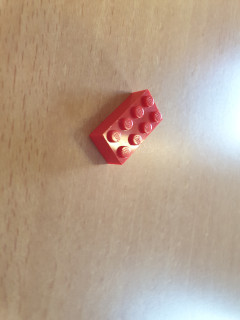2x4 red: (87, 89, 165, 170)
